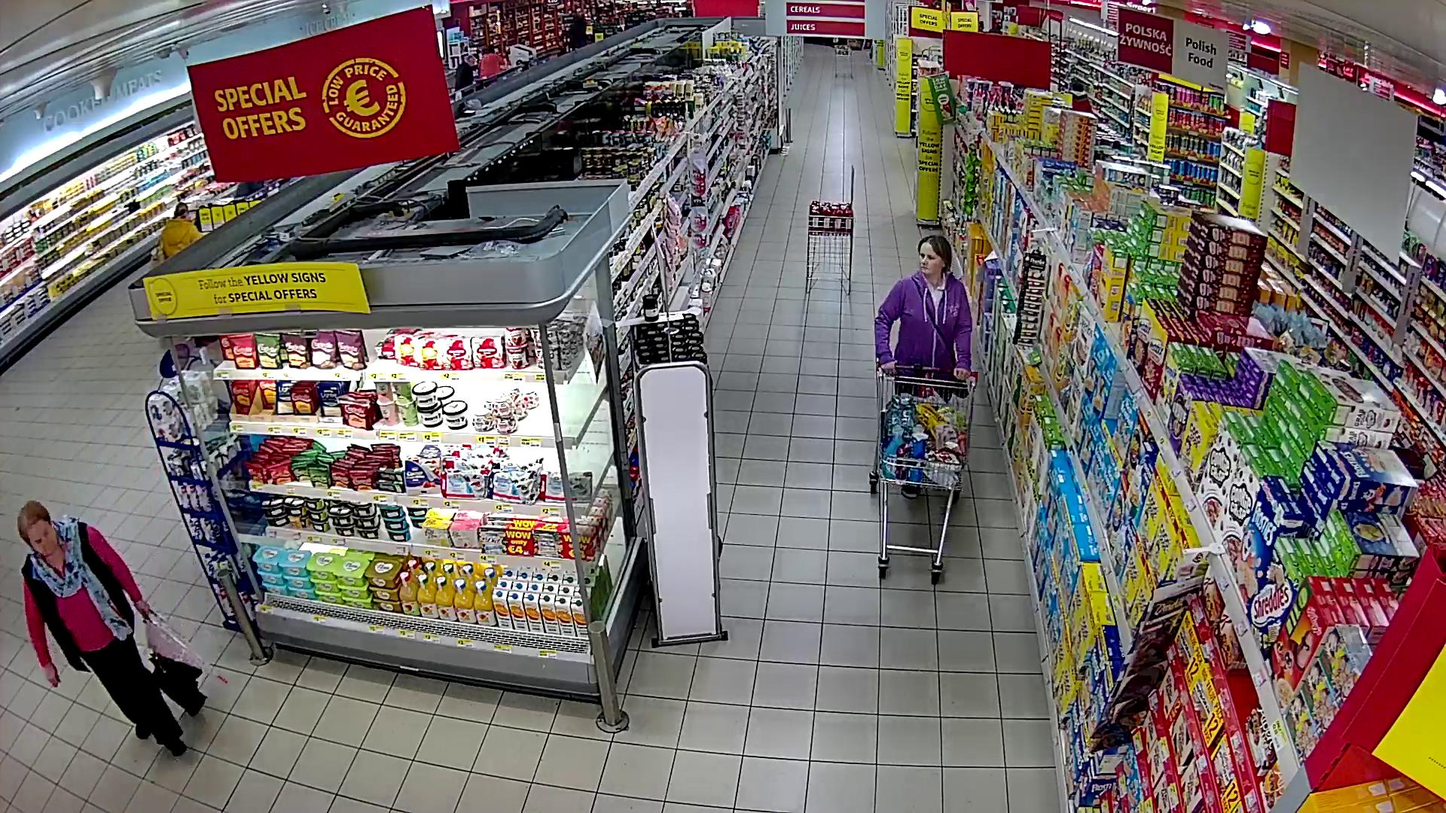filled-shopping-bags: (146, 634, 208, 717)
filled-trolly: (870, 363, 980, 583)
person: (17, 501, 186, 759), (875, 233, 973, 498)
person-with-filled-basket-trolly: (870, 233, 982, 583)
person-with-filled-shopping-bag-s-: (17, 500, 208, 757)
